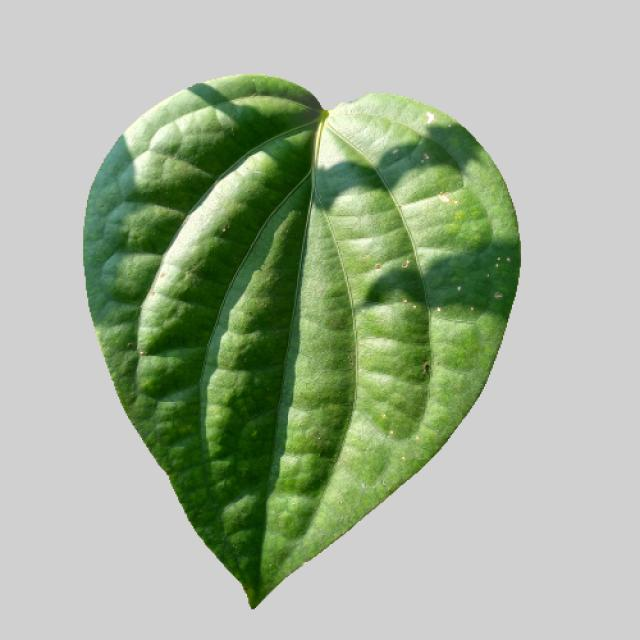healthy: (82, 73, 528, 618)
